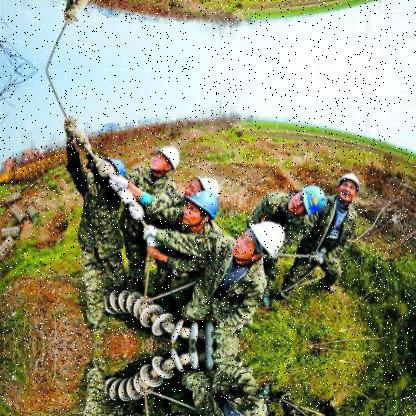Helmet: (234, 214, 284, 270), (276, 180, 322, 224), (180, 193, 224, 230), (144, 146, 187, 178), (335, 164, 364, 204), (191, 168, 220, 203)
